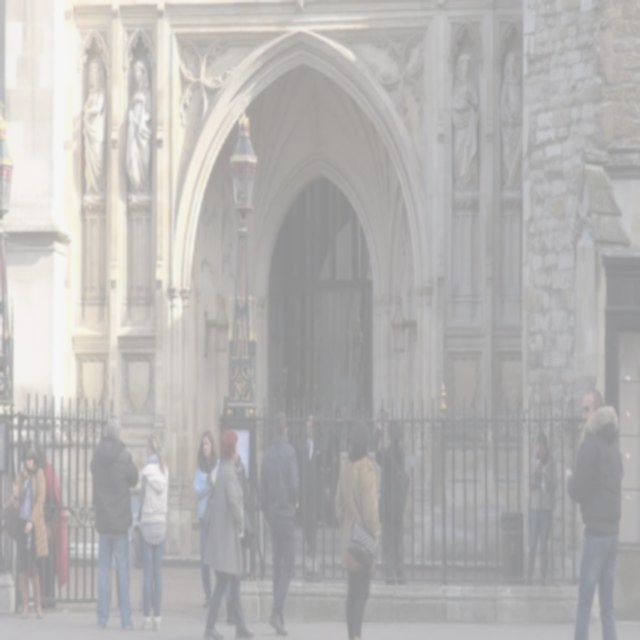pessoa: (560, 381, 626, 638), (201, 422, 257, 638), (88, 412, 140, 634), (333, 414, 383, 638), (256, 408, 301, 639), (8, 436, 50, 622), (136, 431, 170, 634), (372, 417, 411, 588), (32, 437, 70, 611), (296, 412, 332, 560), (192, 428, 221, 609), (526, 429, 559, 587), (226, 452, 252, 626), (499, 43, 526, 194), (125, 59, 154, 194), (452, 49, 479, 190), (81, 53, 108, 192)
